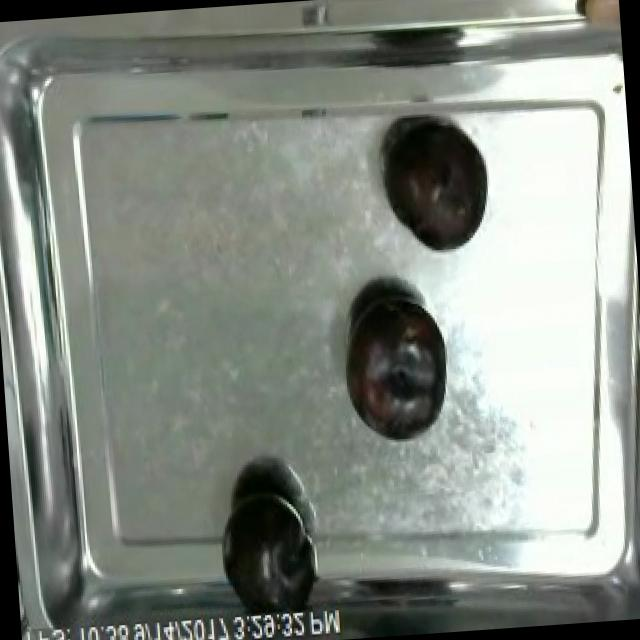Fruit: (334, 284, 453, 450), (374, 117, 496, 258), (211, 474, 325, 623)
